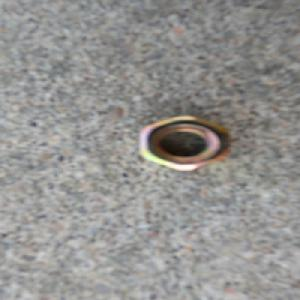Nut: (135, 114, 232, 173)
